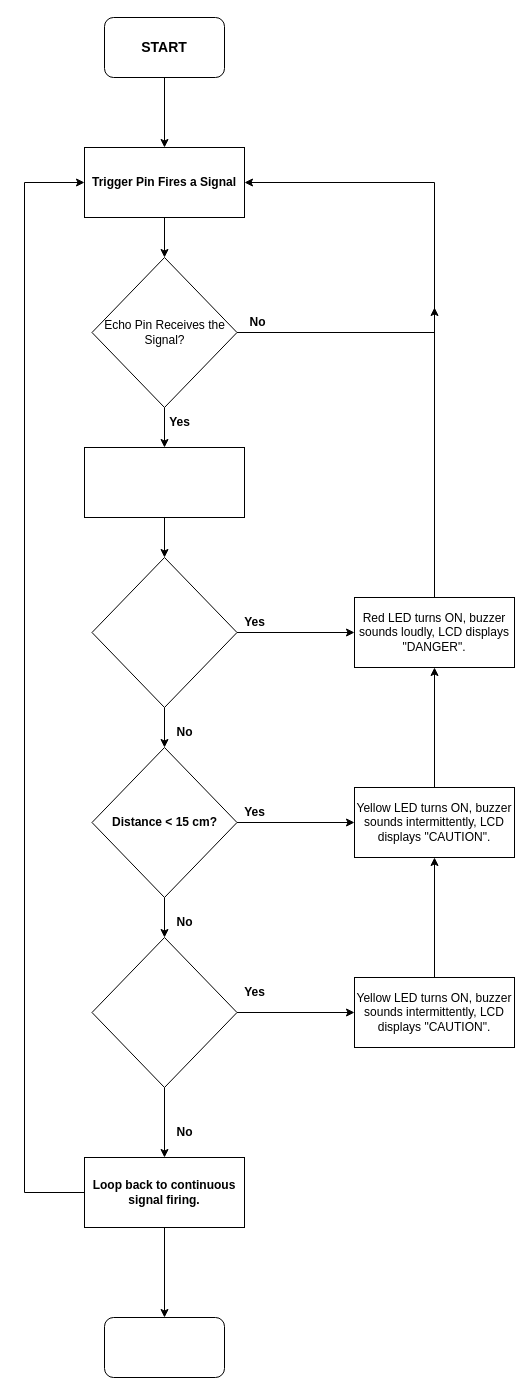
Image size: 532x1395. Some labels were removed from this diagram. The box of each missing label's shape, as (x1, y1, x2, y2) in pixels:
Distance < 10 cm?: (91, 556, 237, 708)
Distance >= 15 cm?: (91, 936, 237, 1088)
END: (104, 1316, 224, 1378)
Measure Distance: (84, 446, 244, 518)
